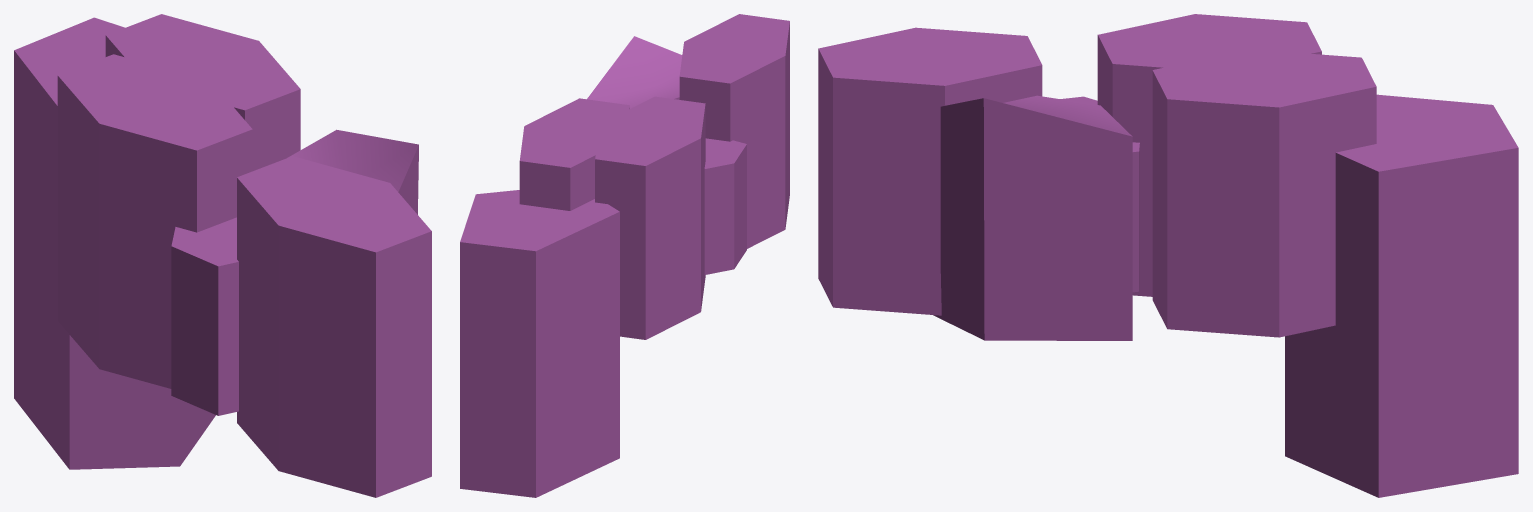
The model's file is Rock2.fbx.
3 views of the same model, side by side, from view 1: azimuth 30°, elevation 25°; view 2: azimuth 150°, elevation 25°; view 3: azimuth 270°, elevation 25° (orthographic). The views are drawn at different scales.
Visible parts, largest first — view 1: pCylinder112; view 2: pCylinder112; view 3: pCylinder112.
Part boxes in pixels (left/top/right/bottom): pCylinder112: left=14, top=14, right=431, bottom=497; pCylinder112: left=460, top=14, right=789, bottom=497; pCylinder112: left=818, top=14, right=1518, bottom=497.
Bounding box in the file's own units: 3.51 × 6.41 × 10.33.
